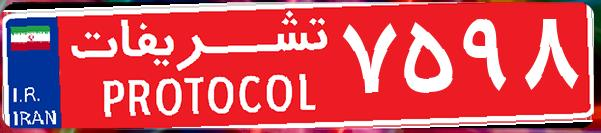5: (400, 20, 460, 115)
7: (340, 20, 400, 115)
8: (520, 20, 580, 115)
9: (460, 20, 520, 115)
تشریفات: (60, 8, 340, 125)
